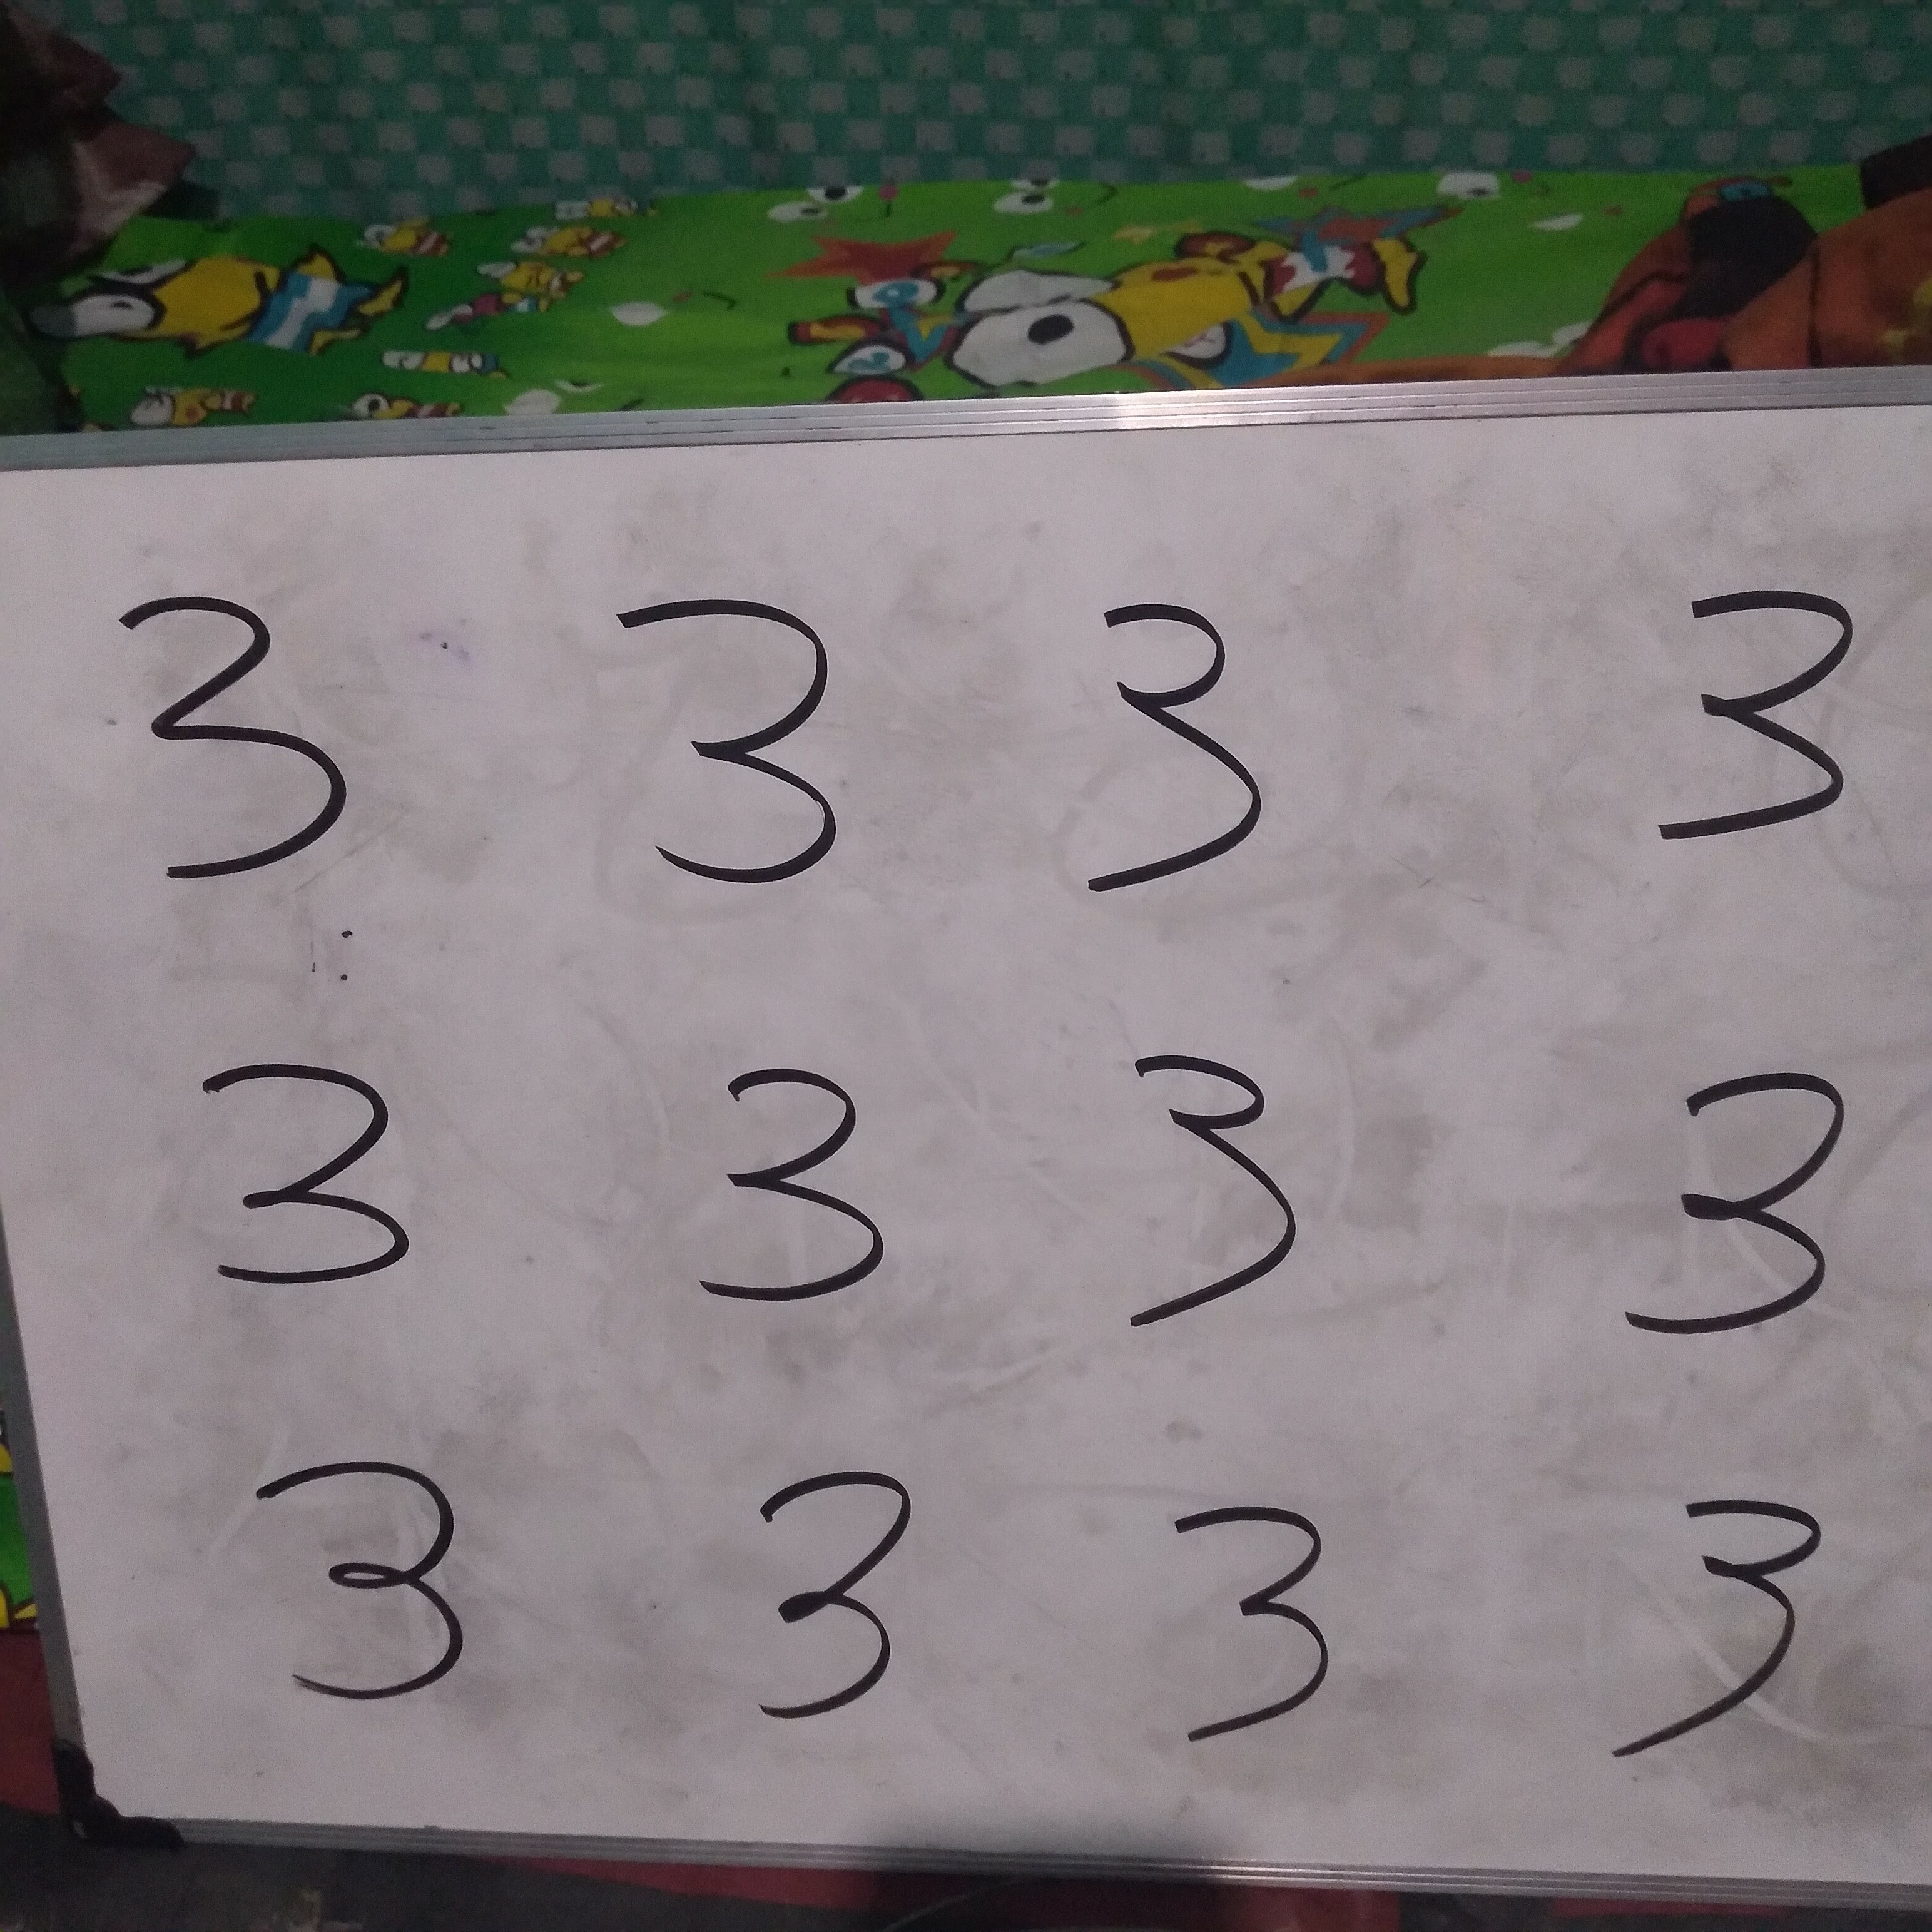num3: (687, 1406, 962, 1765), (188, 1024, 463, 1383), (97, 564, 372, 923), (598, 560, 873, 919), (1025, 569, 1299, 928), (1611, 552, 1886, 911), (1582, 997, 1856, 1356), (1600, 1473, 1875, 1833), (1107, 1444, 1381, 1803), (1079, 987, 1354, 1346), (624, 994, 898, 1353), (214, 1390, 489, 1749)
